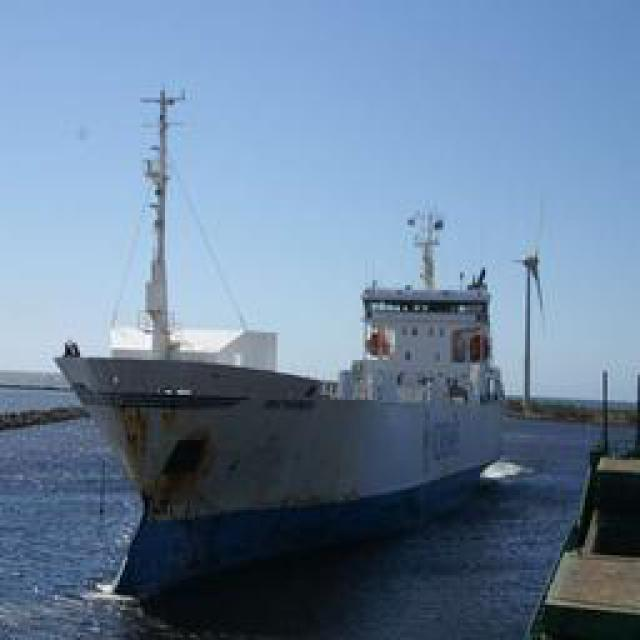Ship: (65, 126, 508, 586)
